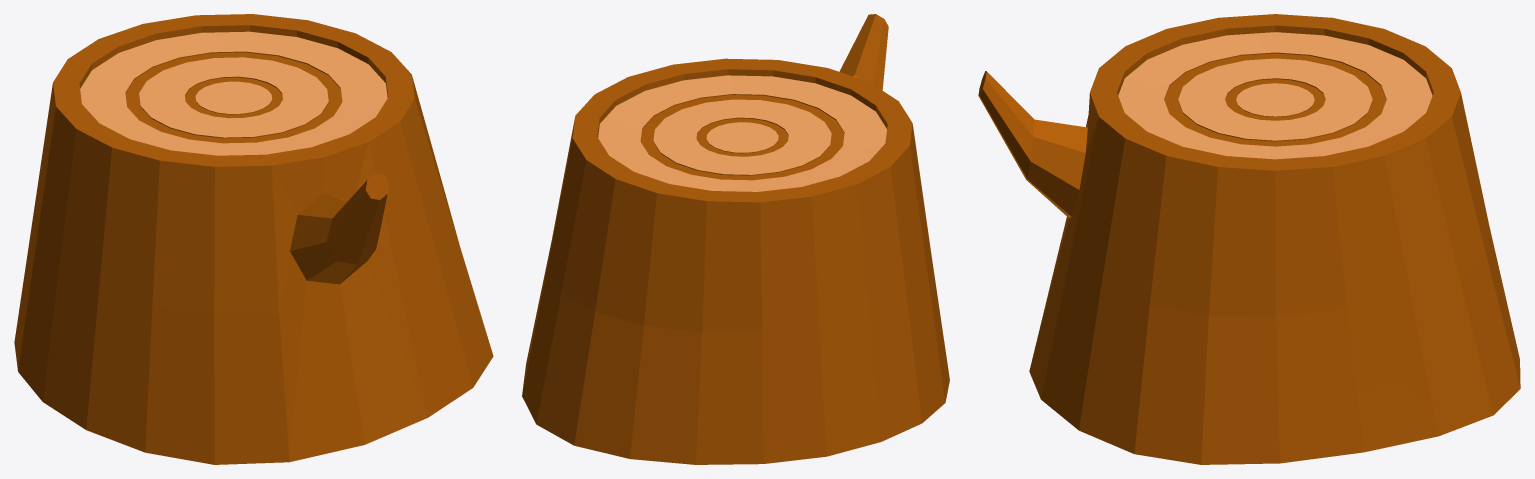
File: stump.glb
3 renders of one model, left to right at view 1: azimuth 30°, elevation 25°; view 2: azimuth 150°, elevation 25°; view 3: azimuth 270°, elevation 25°, orthographic. The views are drawn at different scales.
Parts seen in each view (by area): view 1: Circle.002; view 2: Circle.002; view 3: Circle.002.
Part boxes in pixels (x1=…): Circle.002: x1=14, y1=14, x2=493, y2=464; Circle.002: x1=522, y1=14, x2=949, y2=464; Circle.002: x1=978, y1=14, x2=1520, y2=464.
Bounding box in the file's own units: 0.2422 × 0.1719 × 0.2764.
